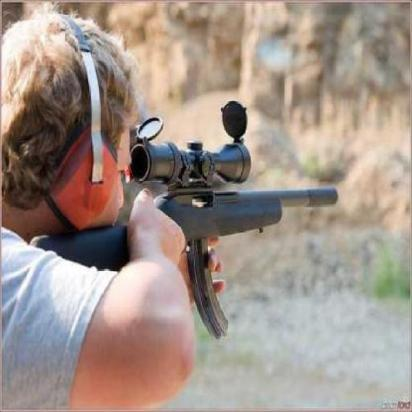Gun: (26, 86, 354, 346)
